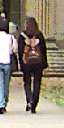person: (15, 16, 52, 119)
